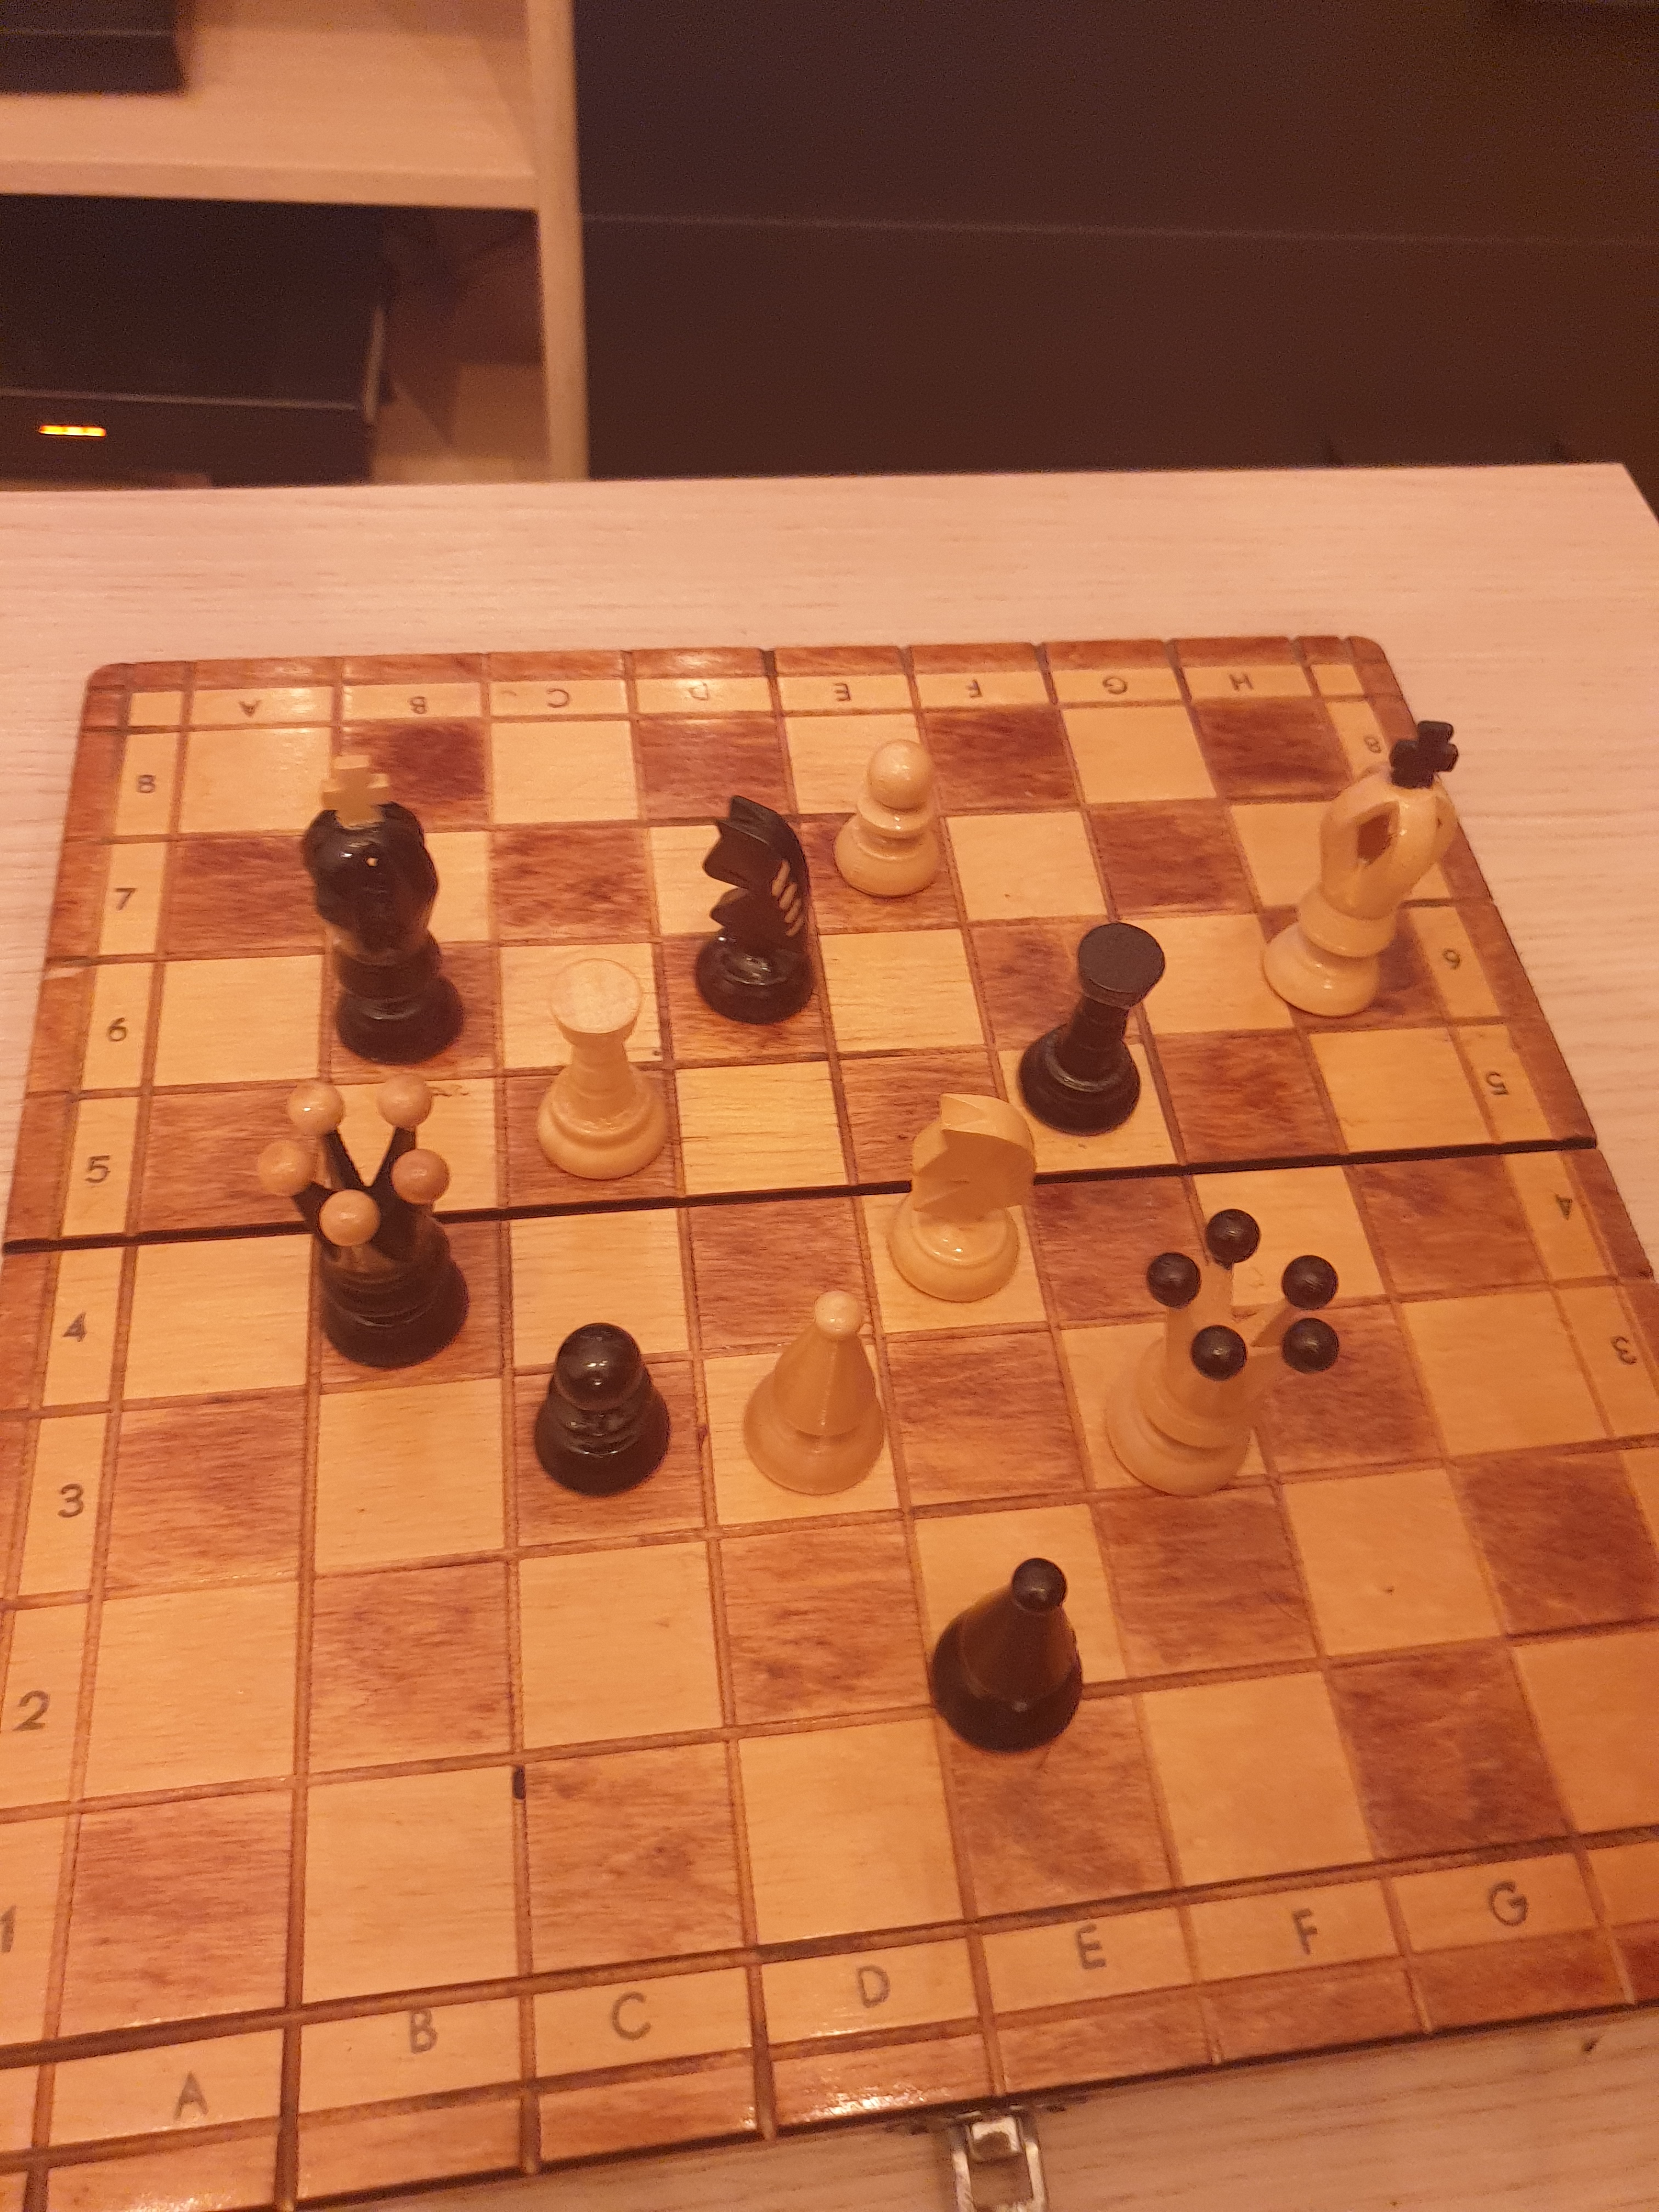bbishop: (903, 1531, 1108, 1768)
bking: (253, 1062, 483, 1383), (291, 744, 484, 1083)
bknight: (685, 780, 840, 1045)
bpawn: (509, 1292, 699, 1531), (821, 725, 962, 914)
brook: (1012, 909, 1180, 1151)
wbishop: (732, 1280, 910, 1508)
wking: (1249, 705, 1474, 1045)
wknight: (877, 1083, 1053, 1317)
wqueen: (1091, 1193, 1354, 1519)
wrook: (521, 935, 683, 1186)
